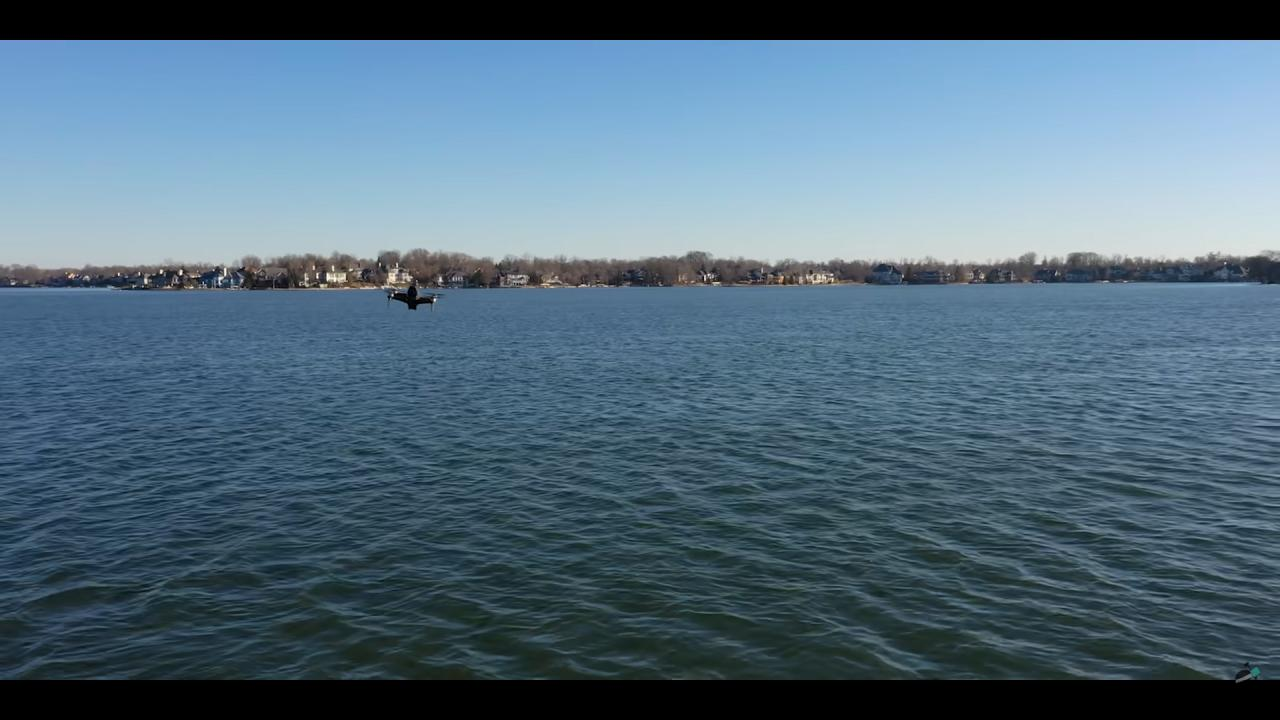Drone: (379, 275, 446, 314)
